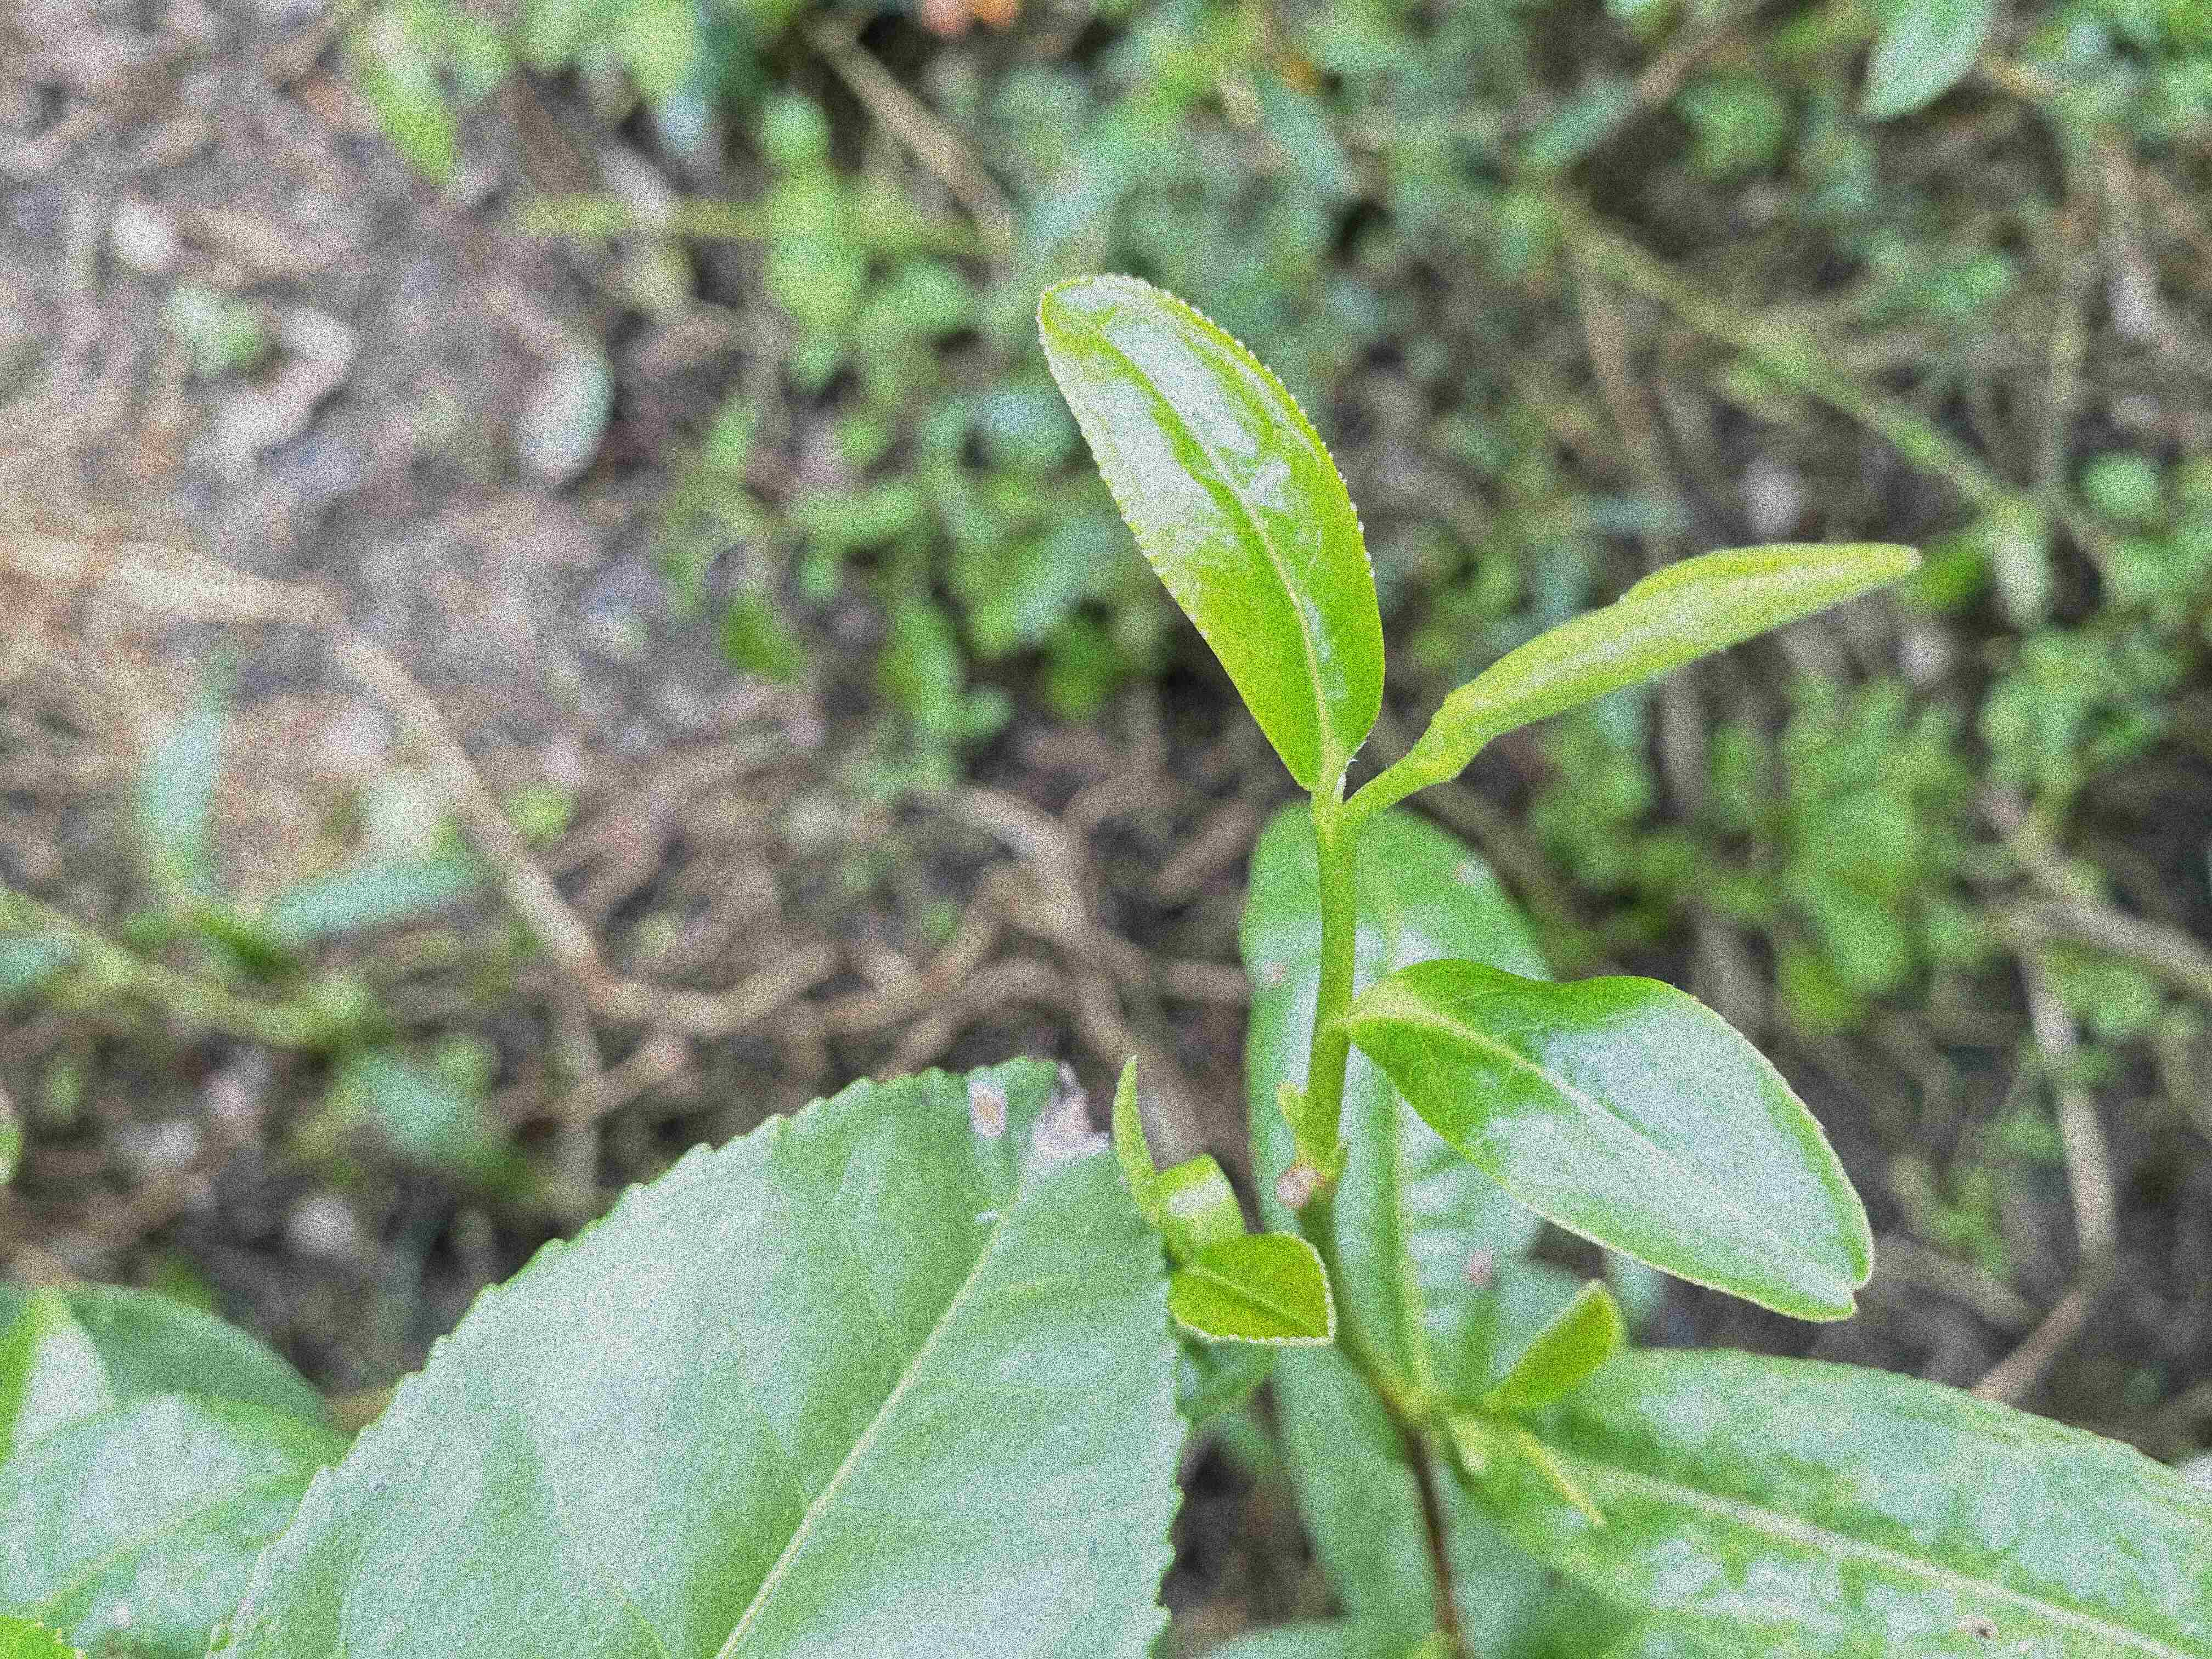healthy: (1350, 953, 1874, 1323), (1033, 272, 1386, 789), (1169, 1229, 1338, 1347)
tanju_high: (204, 1053, 1191, 1656)
